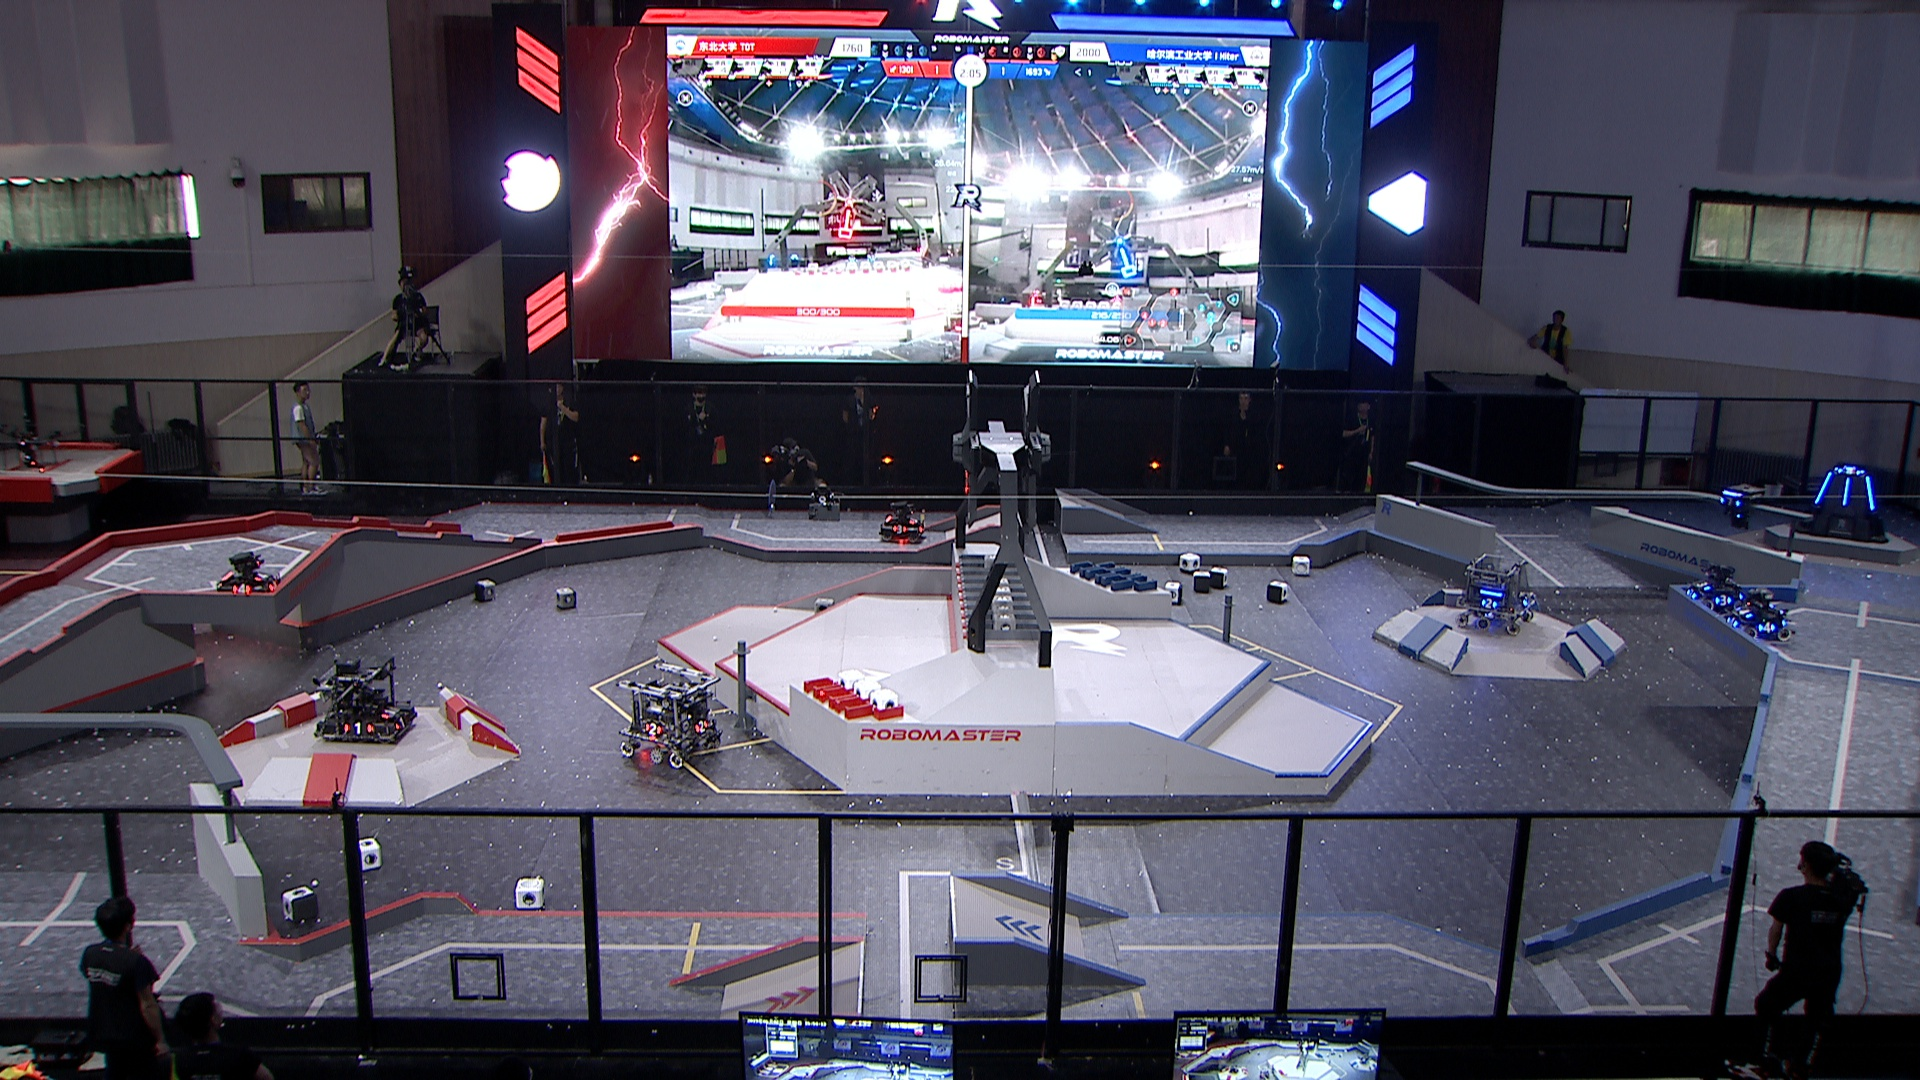armor: (1811, 469, 1836, 505), (1859, 472, 1878, 512), (340, 717, 373, 737), (389, 709, 411, 732), (1716, 495, 1745, 510), (377, 703, 400, 723), (1840, 472, 1851, 506), (690, 716, 712, 733), (249, 568, 272, 585), (645, 721, 665, 740), (1837, 463, 1861, 477), (1693, 576, 1713, 593), (262, 574, 281, 591), (1480, 595, 1499, 611), (1731, 605, 1755, 618), (1756, 618, 1778, 633), (228, 582, 251, 595), (1713, 593, 1731, 609), (1724, 613, 1743, 628), (1684, 585, 1702, 600), (887, 524, 910, 534), (905, 514, 920, 529), (1519, 593, 1534, 609)
base: (1789, 462, 1894, 547)
car: (617, 659, 724, 769), (310, 655, 417, 742), (1453, 551, 1538, 637), (1718, 585, 1797, 644), (214, 546, 284, 599), (1681, 560, 1743, 616), (877, 498, 928, 547)
watcher: (1709, 476, 1768, 529)
